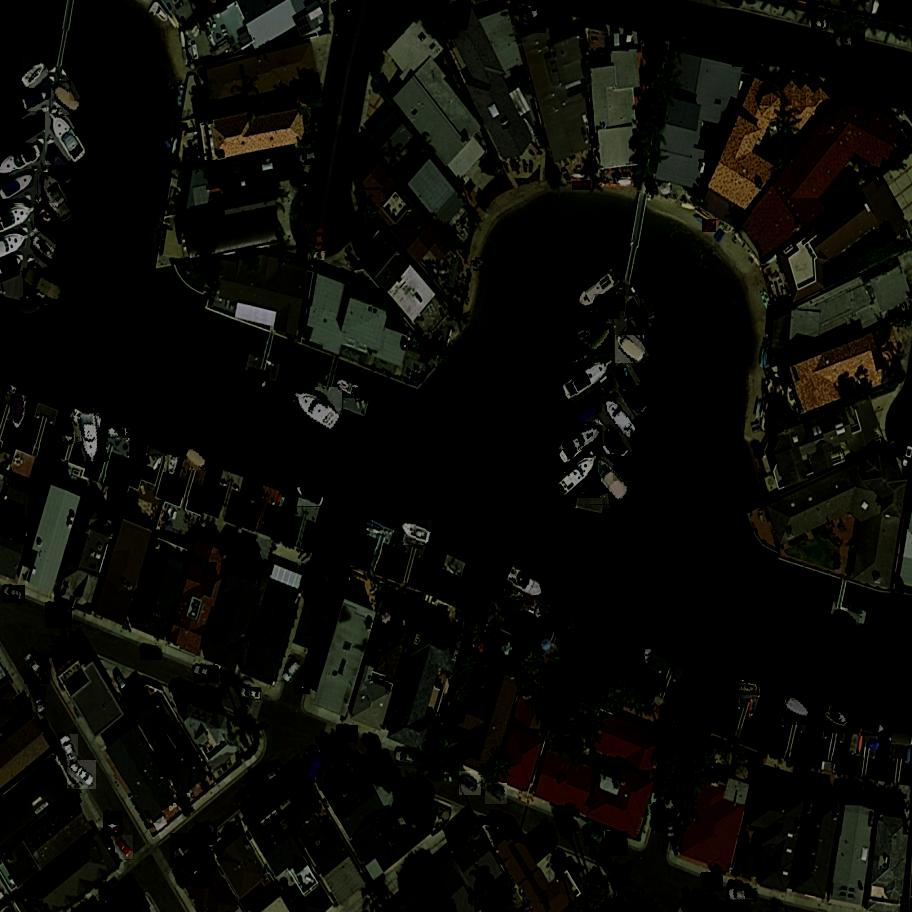large-vehicle: (168, 834, 203, 869)
ship: (559, 354, 619, 404), (291, 387, 345, 435), (45, 110, 90, 167), (574, 265, 627, 312), (554, 450, 605, 498), (587, 457, 632, 505), (554, 425, 607, 465), (40, 173, 77, 227), (504, 566, 552, 605), (21, 268, 69, 305), (604, 396, 641, 438), (0, 171, 41, 207), (27, 231, 63, 266), (603, 424, 632, 460), (51, 83, 84, 114), (782, 695, 815, 725), (618, 386, 651, 416), (614, 335, 648, 363), (81, 412, 99, 463), (20, 59, 50, 89), (589, 324, 617, 356), (401, 520, 435, 546), (830, 609, 860, 638), (823, 706, 854, 734), (48, 156, 76, 186), (32, 203, 60, 232), (146, 433, 178, 457), (294, 486, 326, 509), (594, 294, 622, 320), (337, 375, 366, 399), (11, 393, 29, 430), (21, 90, 51, 112), (573, 404, 602, 426), (69, 75, 92, 102), (641, 290, 659, 323), (613, 458, 637, 482), (245, 371, 271, 393), (186, 448, 211, 470), (248, 476, 264, 508), (857, 720, 887, 737), (627, 315, 648, 339), (131, 432, 144, 468), (550, 594, 574, 611), (534, 601, 552, 622), (19, 303, 44, 318), (738, 682, 763, 695), (167, 455, 179, 477), (65, 414, 74, 443), (109, 427, 132, 438), (575, 328, 591, 342), (703, 220, 718, 234), (573, 181, 591, 191), (473, 261, 486, 272), (645, 650, 653, 666), (476, 258, 488, 263)
small-vehicle: (66, 761, 99, 791), (24, 651, 52, 685), (257, 765, 288, 790), (44, 602, 73, 628), (604, 832, 630, 857), (58, 735, 79, 765), (458, 771, 484, 795), (194, 822, 219, 846), (113, 835, 136, 861), (484, 783, 508, 806), (281, 661, 304, 685), (102, 812, 124, 837), (700, 873, 725, 893), (295, 666, 312, 695), (193, 666, 220, 684), (583, 825, 606, 846), (833, 34, 865, 49), (30, 686, 47, 714), (1, 585, 26, 604), (530, 7, 547, 34), (336, 725, 359, 744), (519, 8, 535, 34), (394, 750, 418, 767), (297, 149, 321, 166), (729, 888, 758, 902), (664, 811, 677, 840), (139, 645, 163, 660), (653, 802, 664, 831), (311, 110, 323, 136), (731, 52, 753, 65), (315, 227, 326, 253), (240, 688, 262, 701), (298, 232, 306, 260), (291, 178, 311, 189), (812, 19, 829, 30)
